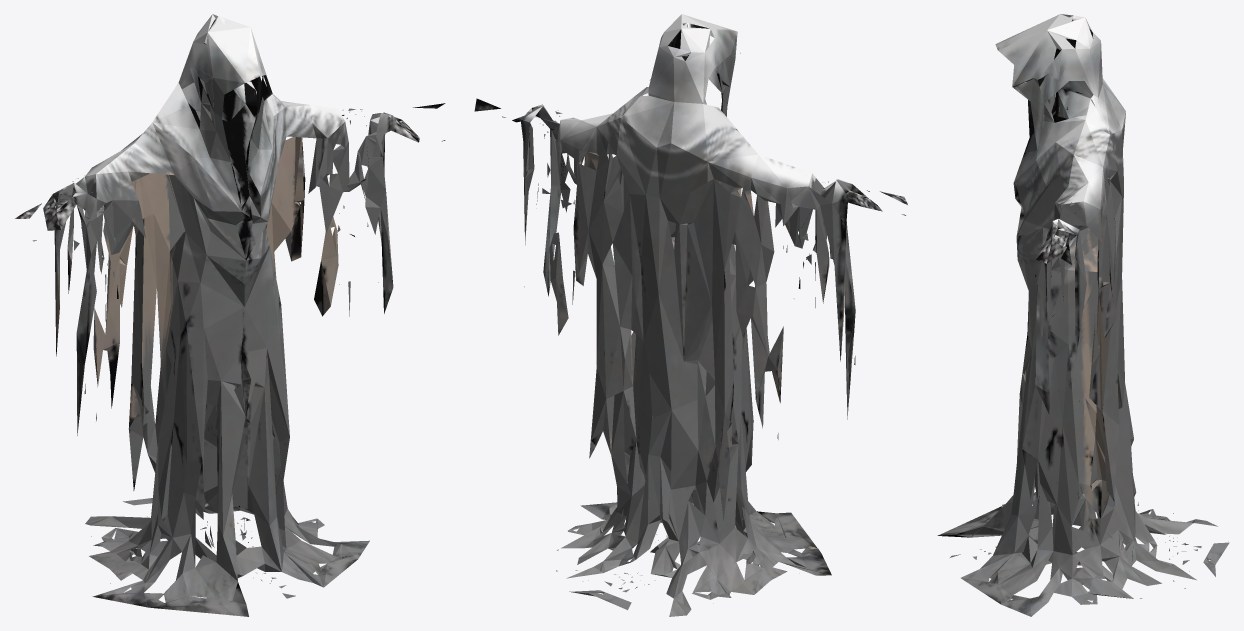
File: wraith.gltf
3 renders of one model, left to right at view 1: azimuth 30°, elevation 25°; view 2: azimuth 150°, elevation 25°; view 3: azimuth 270°, elevation 25°, orthographic. The views are drawn at different scales.
Visible parts, largest first — view 1: wraith; view 2: wraith; view 3: wraith.
Boxes of the visible parts, bbox=[...] form: wraith: bbox=[15, 14, 445, 616]; wraith: bbox=[474, 14, 907, 616]; wraith: bbox=[937, 14, 1229, 616].
Bounding box in the file's own units: 0.8422 × 1 × 0.4913.
Materials: 1 (1 with a texture image).
